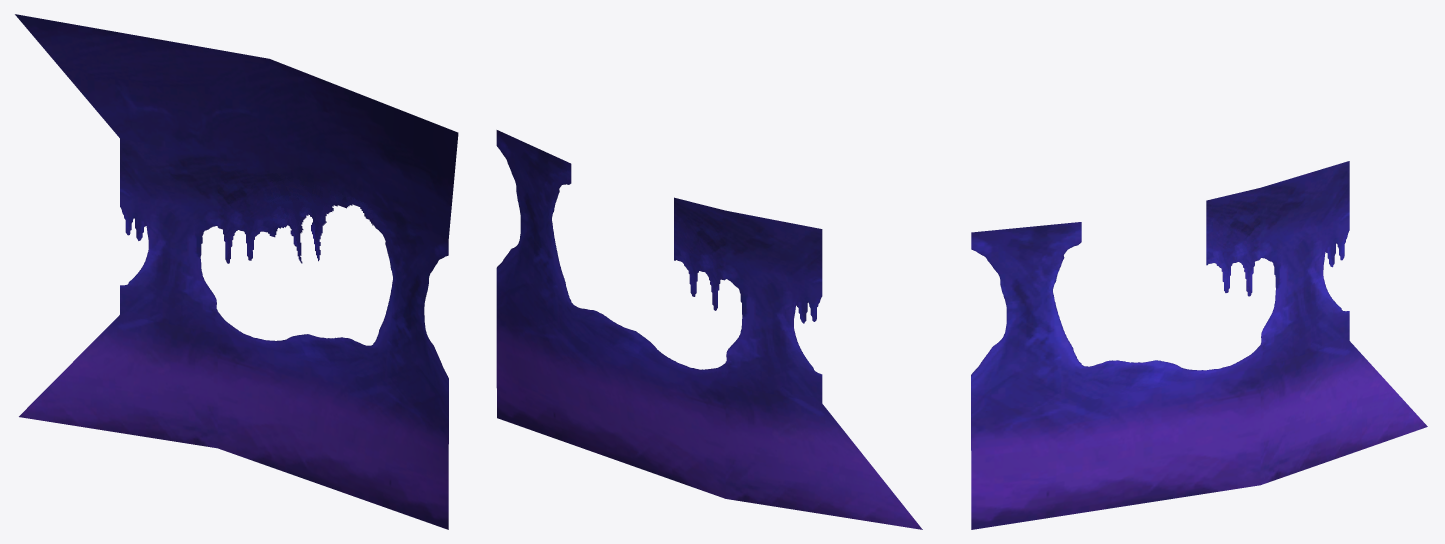
Rendered from SWORDLIGHT20_PS-AREA05-RANGE04_01.fbx.
3 views of the same model, side by side, from view 1: azimuth 30°, elevation 25°; view 2: azimuth 210°, elevation 25°; view 3: azimuth 270°, elevation 25° (orthographic). The views are drawn at different scales.
Parts seen in each view (by area): view 1: SWORDLIGHT20_PS-AREA05-RANGE04_01; view 2: SWORDLIGHT20_PS-AREA05-RANGE04_01; view 3: SWORDLIGHT20_PS-AREA05-RANGE04_01.
Boxes of the visible parts, left/top/right/bottom form: SWORDLIGHT20_PS-AREA05-RANGE04_01: left=15, top=14, right=458, bottom=529; SWORDLIGHT20_PS-AREA05-RANGE04_01: left=496, top=130, right=922, bottom=529; SWORDLIGHT20_PS-AREA05-RANGE04_01: left=971, top=161, right=1427, bottom=529.
Bounding box in the file's own units: 182980 × 333000 × 348748.
Materials: 10 (10 with a texture image).
